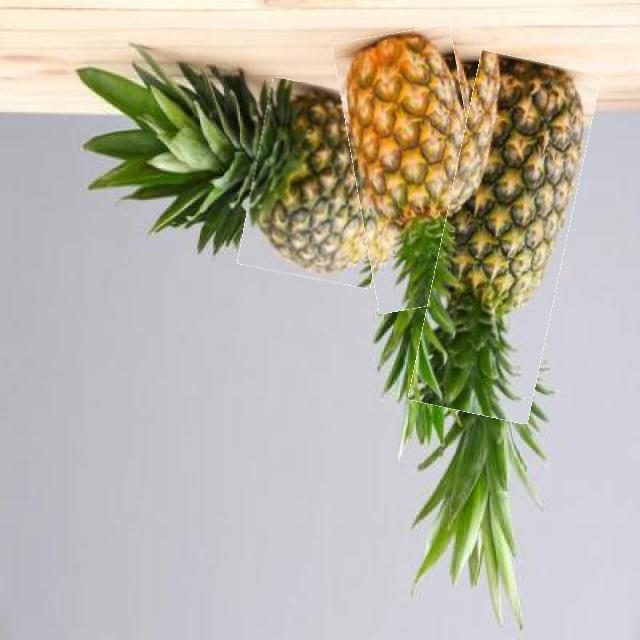Pineapple: (426, 55, 584, 420), (344, 28, 485, 310), (246, 82, 397, 284)
